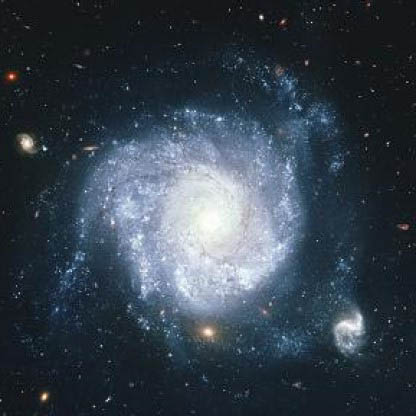NGC 1309: (10, 69, 378, 367)
